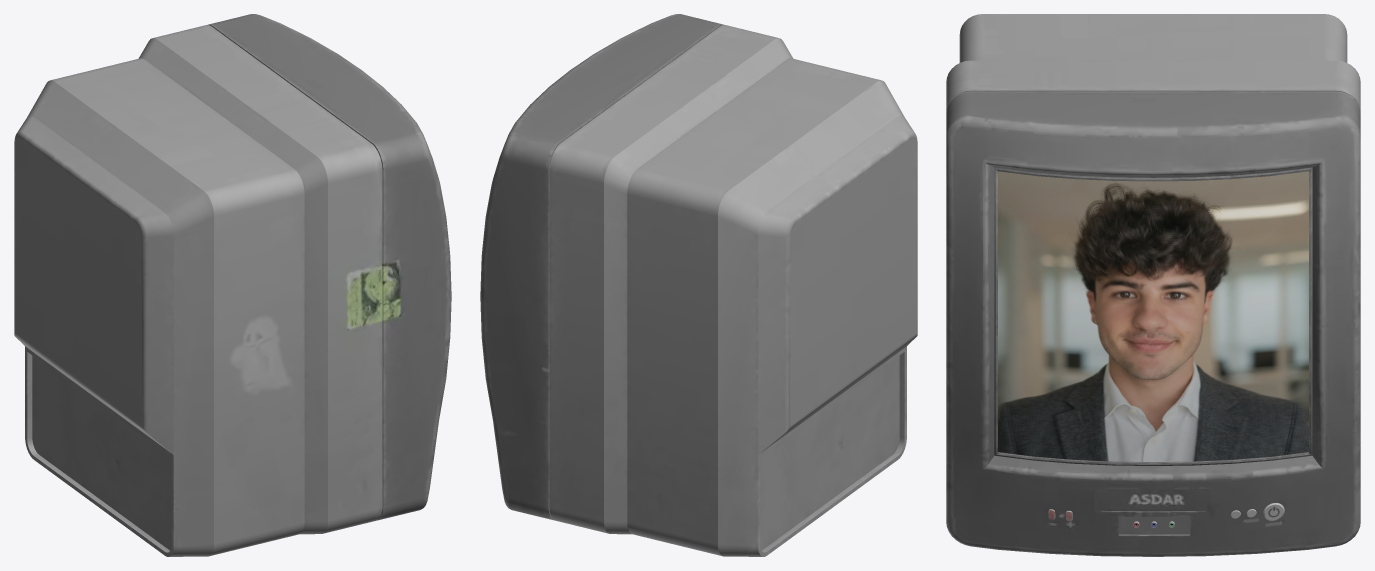
File: retro_tv.glb
The picture shows the model from 3 angles, left to right: view 1: azimuth 30°, elevation 25°; view 2: azimuth 150°, elevation 25°; view 3: azimuth 270°, elevation 25°; orthographic projection. The views are drawn at different scales.
Bounding box in the file's own units: 0.5181 × 0.6128 × 0.5362.
Materials: 8 (8 with a texture image).
